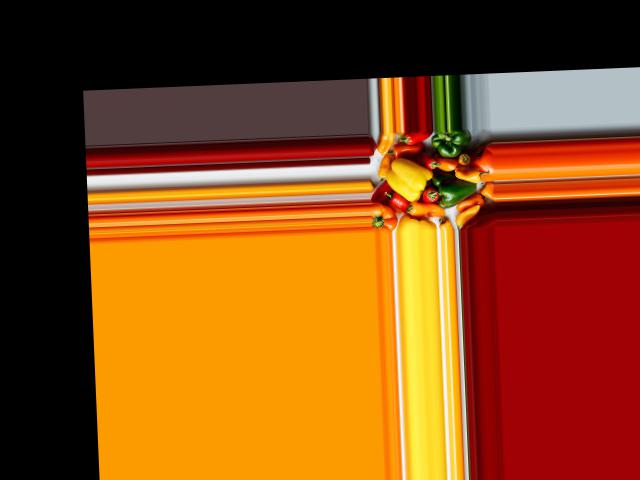bell_pepper: (397, 130, 429, 148)
